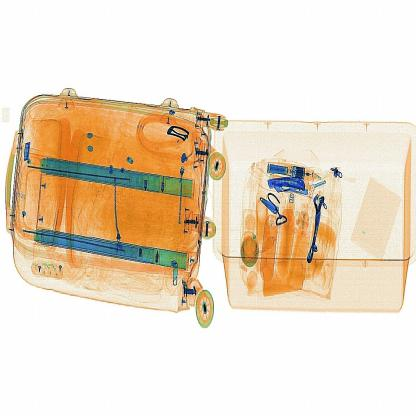knife: (265, 164, 311, 196)
